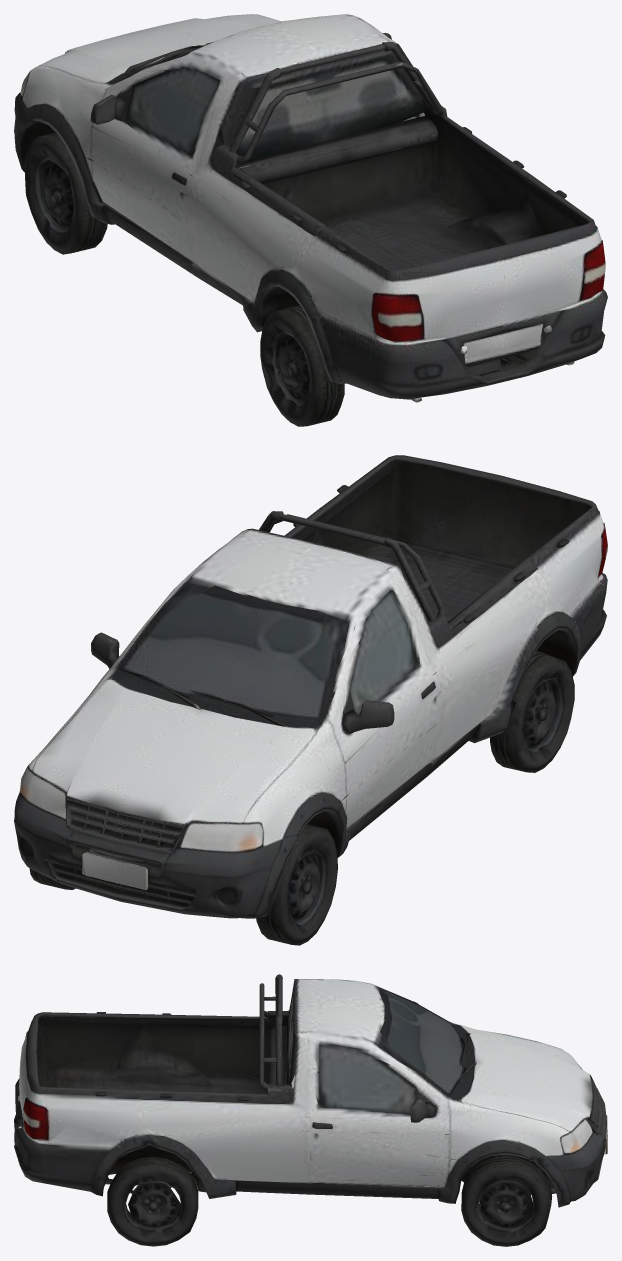
The model's file is carro-picape.glb.
3 views of the same model, one above another, from view 1: azimuth 30°, elevation 25°; view 2: azimuth 150°, elevation 25°; view 3: azimuth 270°, elevation 25° (orthographic). The views are drawn at different scales.
Visible parts, largest first — view 1: Corpo, Roda_RL, Roda_FL; view 2: Corpo, Roda_RL, Roda_FL; view 3: Corpo, Roda_RR, Roda_FR.
Part boxes in pixels (bbox=[...]): Corpo: bbox=[14, 14, 607, 402]; Roda_RL: bbox=[260, 305, 344, 426]; Roda_FL: bbox=[24, 132, 107, 254]; Corpo: bbox=[14, 455, 607, 945]; Roda_RL: bbox=[490, 650, 574, 772]; Roda_FL: bbox=[270, 824, 337, 936]; Corpo: bbox=[14, 974, 607, 1246]; Roda_RR: bbox=[107, 1157, 198, 1246]; Roda_FR: bbox=[461, 1154, 552, 1245].
Size of the model in its own units: 1.95 by 1.7 by 4.45.
Materials: 1 (1 with a texture image).
